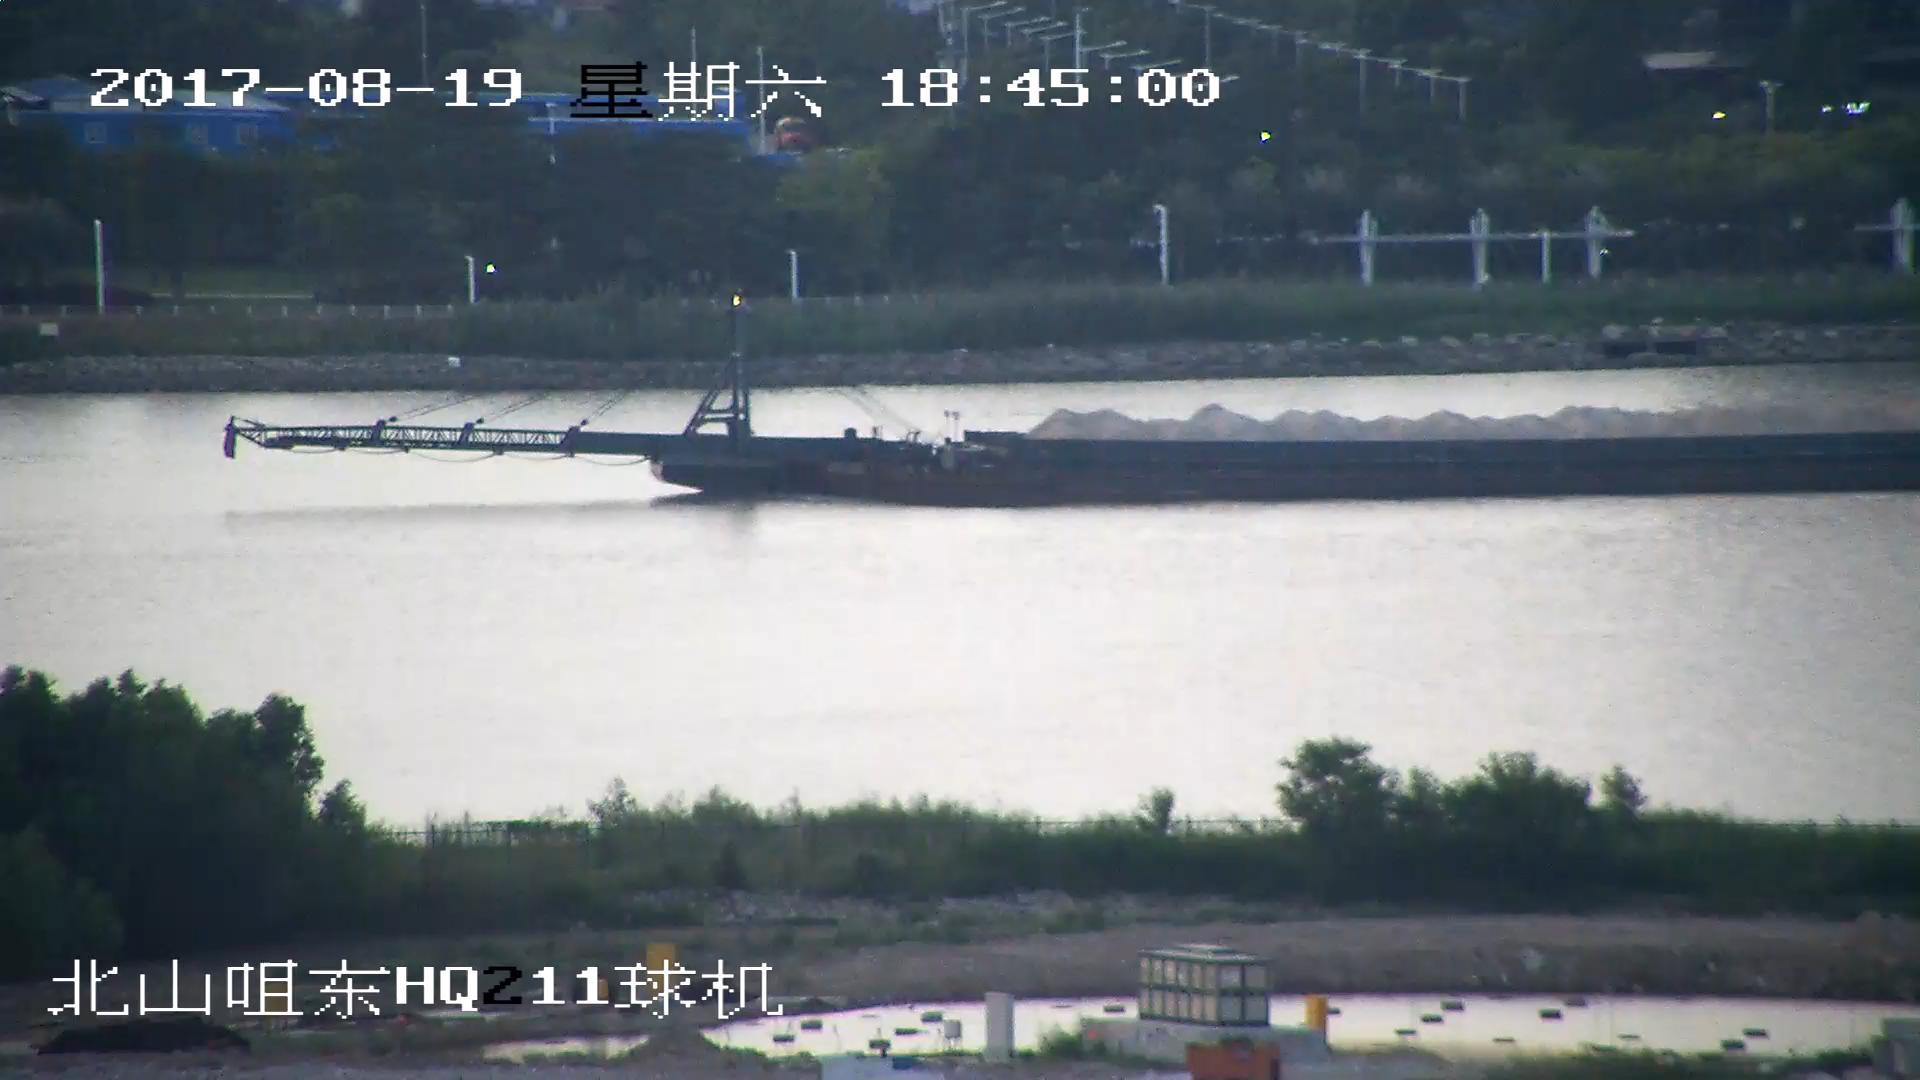Ship: (225, 301, 1920, 509)
